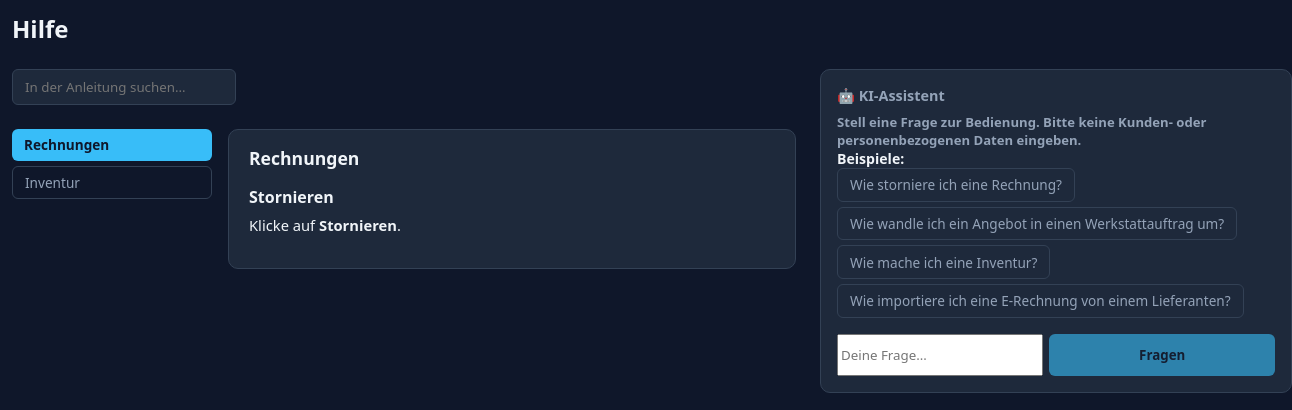
it: Hilfe-Seite › zeigt Inhaltsverzeichnis und erstes Kapitel
This screenshot has width=1292, height=410.
expect the heading "Rechnungen" is shown: met, box [249,146,359,170]
expect the heading "Stornieren" is shown: met, box [249,186,334,208]
What coordinates should you click on to do the following:
click the button "Inventur"
I would click on:
 (112, 182)
Its box is [12,166,212,199].
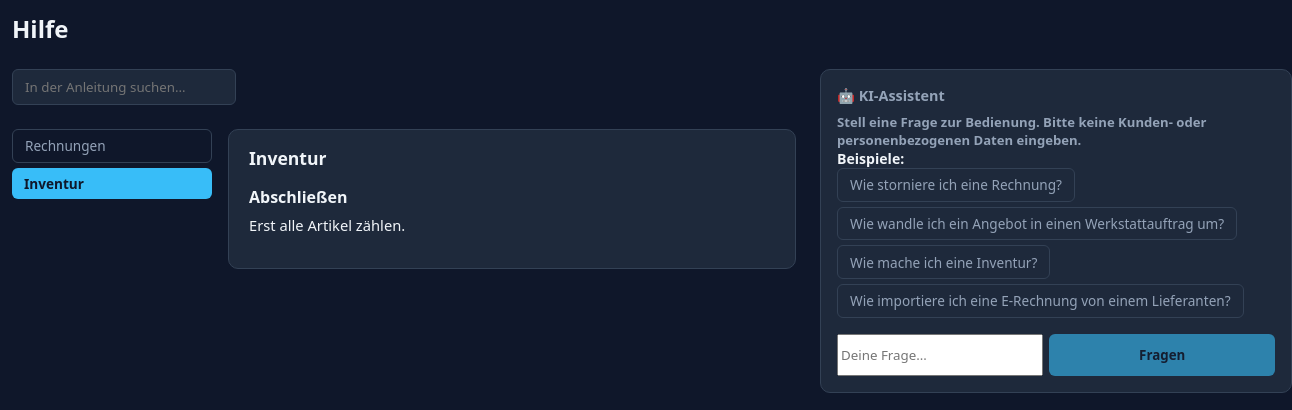
expect the text "Erst alle Artikel zählen." is shown: met, box [249,215,405,235]
